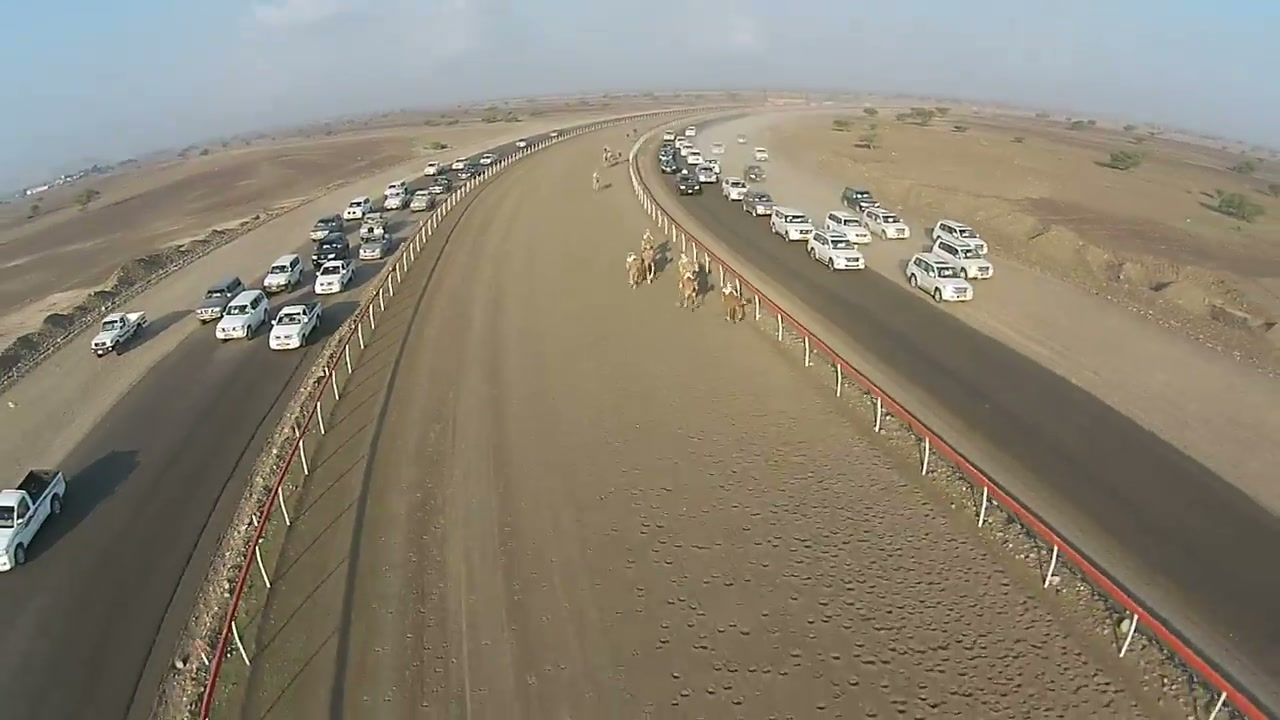animal_foot_print: (622, 360, 1119, 719)
